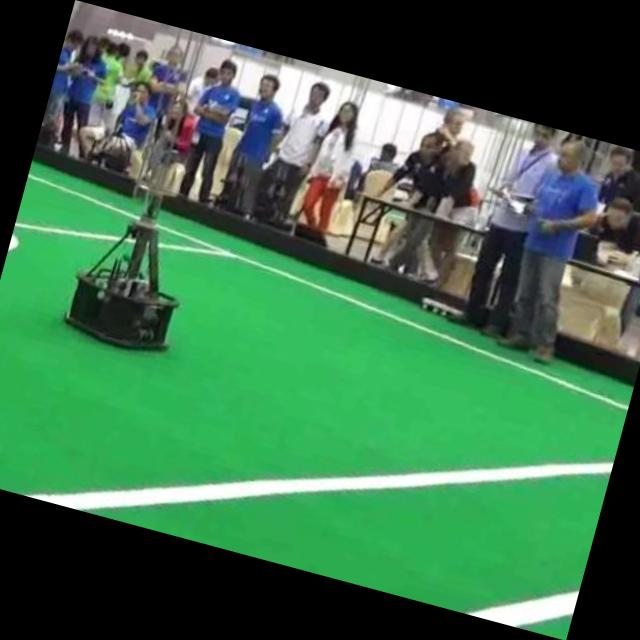robot: (65, 192, 178, 348)
